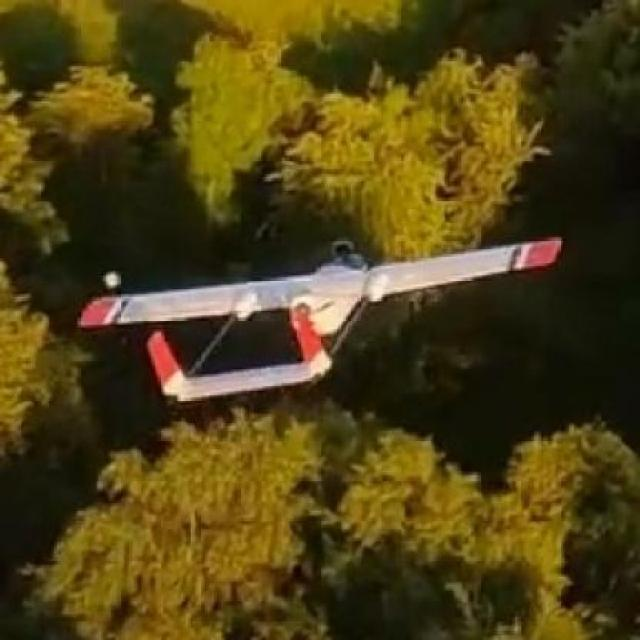iha: (69, 234, 559, 402)
